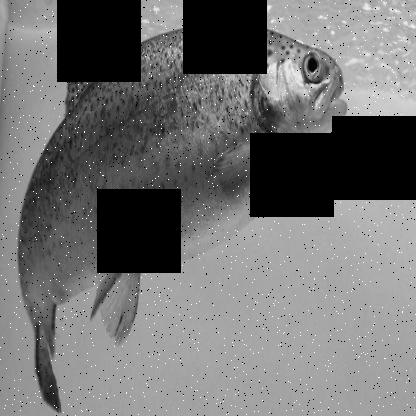fish: (20, 22, 346, 409)
